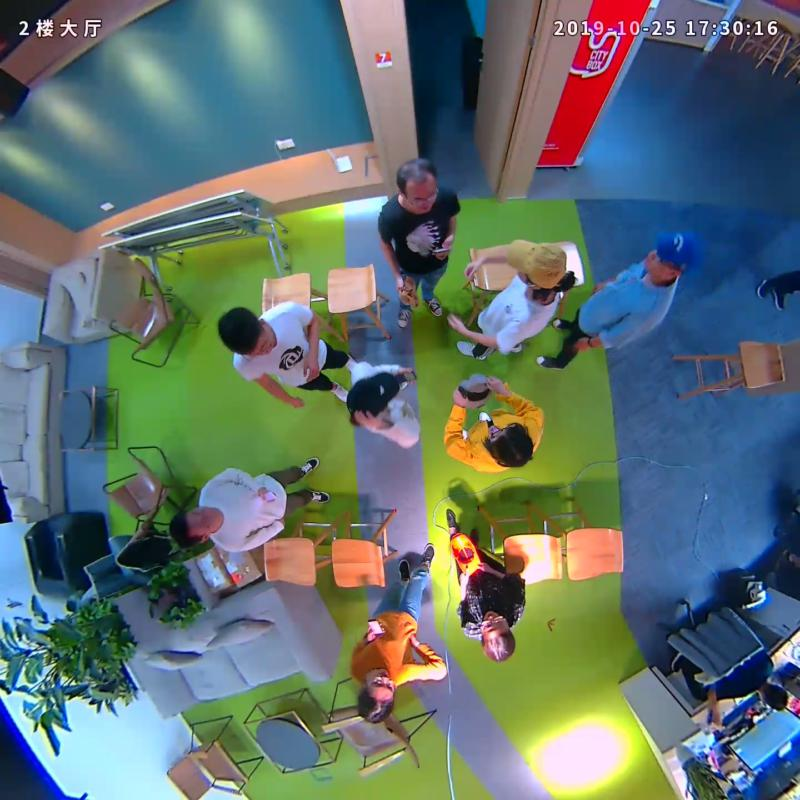head: (502, 236, 567, 289), (644, 230, 702, 281), (217, 307, 274, 357), (346, 370, 399, 420), (395, 158, 439, 212), (356, 669, 396, 725), (479, 609, 516, 664), (168, 506, 218, 546), (491, 422, 532, 467)
